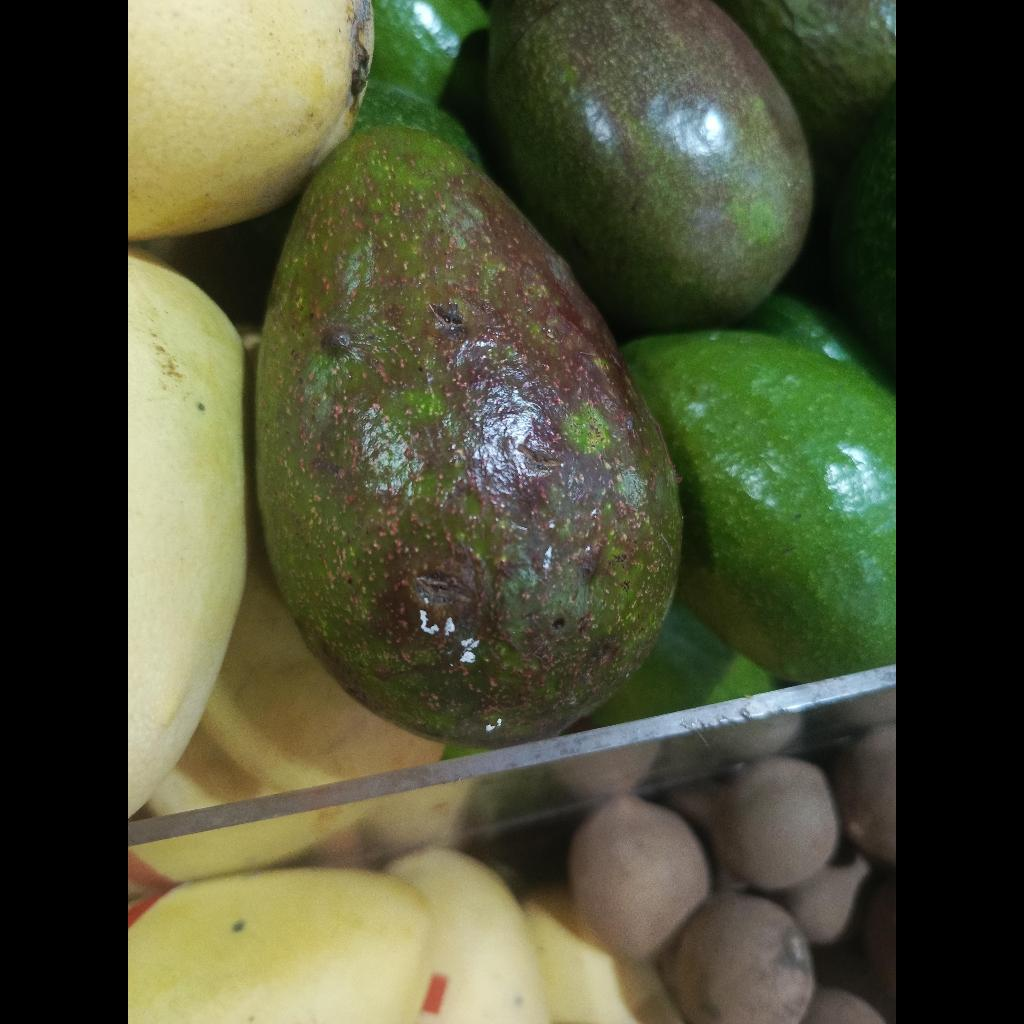antracnosis_fruto: (256, 127, 682, 746)
